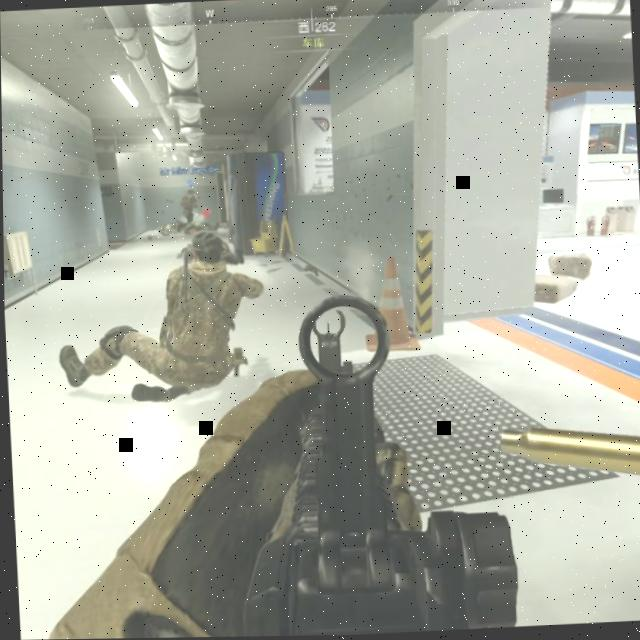MW2_body: (51, 204, 267, 407)
